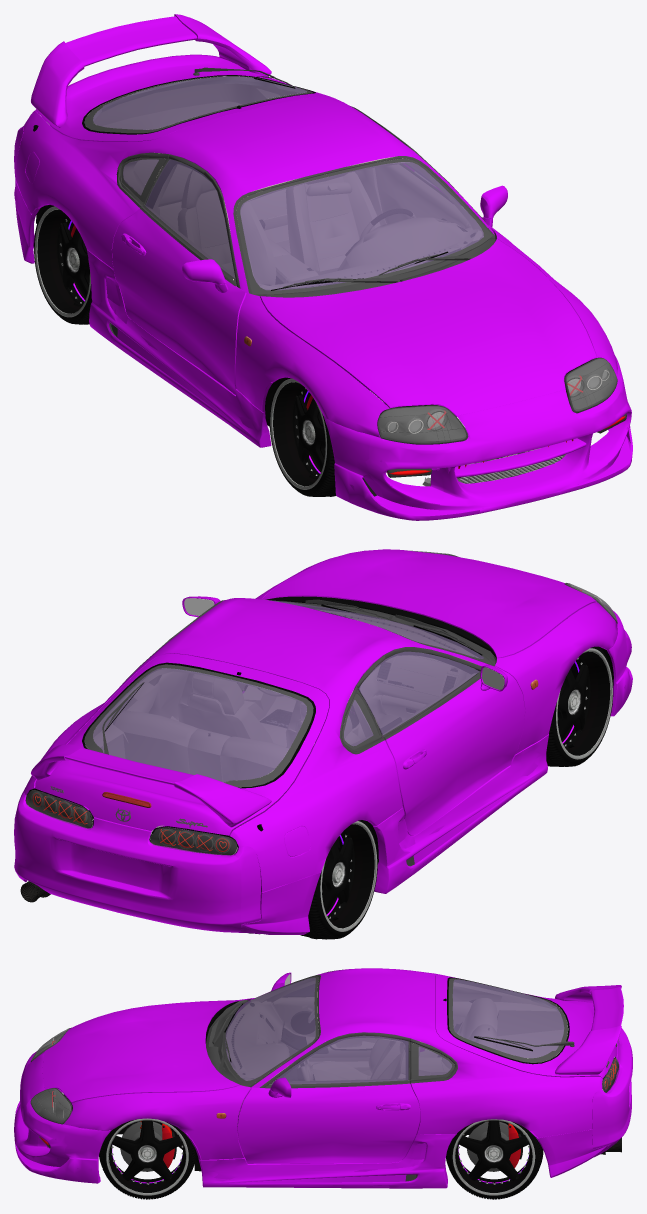
3 renders of one model, top to bottom at view 1: azimuth 30°, elevation 25°; view 2: azimuth 150°, elevation 25°; view 3: azimuth 270°, elevation 25°, orthographic. The views are drawn at different scales.
Visible parts, largest first — view 1: esta80_hood_esta80_0, esta80_body_esta80_0, esta80_bumper_F_varis_esta80_0, esta80_windshield_esta80_glass_0, esta80_door_R_esta80_0, esta80_interior_LHD_sdd_leather_0, esta80_fender_R_esta80_0, esta80_sideskirt_varis_esta80_0, esta80_wing_varis_esta80_0, esta80_tailgate_esta80_0, esta80_tailgate_esta80_glass_0, Wheel_FR (+19 smaller); view 2: esta80_body_esta80_0, esta80_bumper_R_vs_esta80_0, esta80_hood_esta80_0, esta80_tailgate_esta80_glass_0, esta80_interior_LHD_sdd_leather_0, esta80_door_R_esta80_0, esta80_tailgate_esta80_0, esta80_sideskirt_varis_esta80_0, esta80_fender_R_esta80_0, Wheel_RR, Wheel_FR, esta80_doorglass_R_esta80_glass_0 (+16 smaller); view 3: esta80_body_esta80_0, esta80_hood_esta80_0, esta80_door_L_esta80_0, esta80_sideskirt_varis_esta80_0, esta80_interior_LHD_sdd_leather_0, esta80_fender_L_esta80_0, esta80_tailgate_esta80_glass_0, esta80_windshield_esta80_glass_0, esta80_bumper_F_varis_esta80_0, Wheel_RL, Wheel_FL, esta80_bumper_R_vs_esta80_0 (+21 smaller).
Part boxes in pixels (left/top/right/bottom): esta80_hood_esta80_0: left=260, top=238, right=596, bottom=416; esta80_body_esta80_0: left=16, top=78, right=494, bottom=292; esta80_bumper_F_varis_esta80_0: left=323, top=356, right=632, bottom=520; esta80_windshield_esta80_glass_0: left=240, top=162, right=483, bottom=290; esta80_door_R_esta80_0: left=112, top=209, right=246, bottom=394; esta80_interior_LHD_sdd_leather_0: left=123, top=85, right=482, bottom=298; esta80_fender_R_esta80_0: left=235, top=292, right=389, bottom=437; esta80_sideskirt_varis_esta80_0: left=87, top=249, right=271, bottom=447; esta80_wing_varis_esta80_0: left=31, top=14, right=271, bottom=127; esta80_tailgate_esta80_0: left=35, top=54, right=328, bottom=141; esta80_tailgate_esta80_glass_0: left=93, top=76, right=306, bottom=129; Wheel_FR: left=269, top=377, right=335, bottom=496; esta80_body_esta80_0: left=23, top=598, right=487, bottom=933; esta80_bumper_R_vs_esta80_0: left=14, top=791, right=320, bottom=934; esta80_hood_esta80_0: left=262, top=549, right=596, bottom=658; esta80_tailgate_esta80_glass_0: left=93, top=668, right=306, bottom=782; esta80_interior_LHD_sdd_leather_0: left=93, top=610, right=477, bottom=781; esta80_door_R_esta80_0: left=382, top=666, right=525, bottom=835; esta80_tailgate_esta80_0: left=35, top=653, right=329, bottom=835; esta80_sideskirt_varis_esta80_0: left=373, top=734, right=548, bottom=893; esta80_fender_R_esta80_0: left=495, top=602, right=617, bottom=754; Wheel_RR: left=300, top=820, right=377, bottom=939; Wheel_FR: left=546, top=646, right=613, bottom=766; esta80_doorglass_R_esta80_glass_0: left=358, top=651, right=479, bottom=735; esta80_body_esta80_0: left=251, top=968, right=602, bottom=1138; esta80_hood_esta80_0: left=42, top=1000, right=239, bottom=1102; esta80_door_L_esta80_0: left=237, top=1083, right=420, bottom=1163; esta80_sideskirt_varis_esta80_0: left=198, top=1048, right=456, bottom=1188; esta80_interior_LHD_sdd_leather_0: left=226, top=978, right=554, bottom=1099; esta80_fender_L_esta80_0: left=64, top=1085, right=251, bottom=1164; esta80_tailgate_esta80_glass_0: left=452, top=979, right=564, bottom=1058; esta80_windshield_esta80_glass_0: left=225, top=977, right=315, bottom=1080; esta80_bumper_F_varis_esta80_0: left=14, top=1051, right=111, bottom=1183; Wheel_RL: left=446, top=1119, right=543, bottom=1199; Wheel_FL: left=99, top=1118, right=195, bottom=1199; esta80_bumper_R_vs_esta80_0: left=537, top=1028, right=632, bottom=1177.
Size of what is drawn, in the model's own units: 2 by 1.27 by 4.52.
46 materials, 8 textured.
